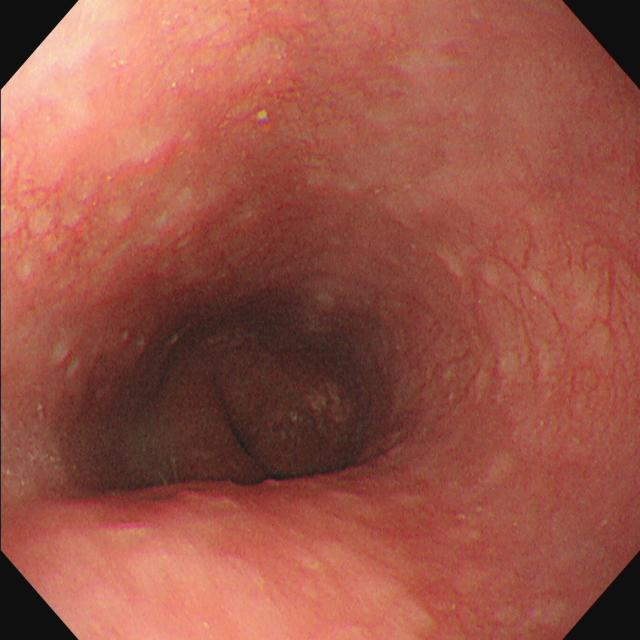E: (89, 313, 368, 489)
